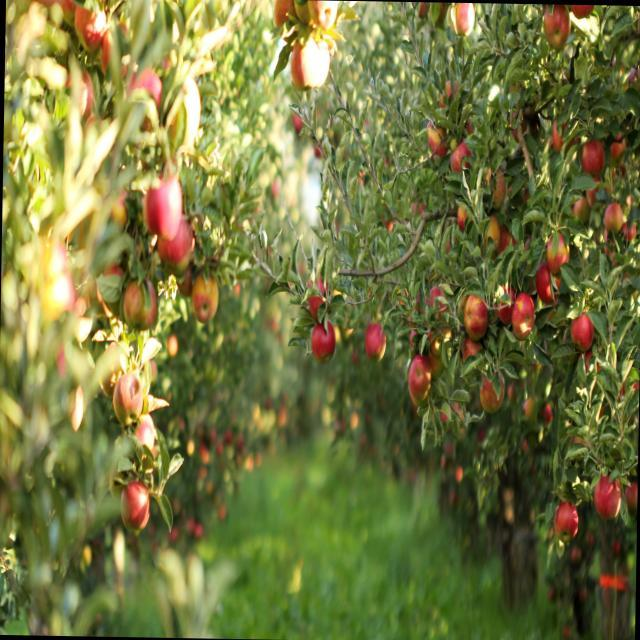APPLE: (144, 183, 186, 254), (118, 474, 156, 536), (188, 263, 220, 329), (308, 308, 340, 364)
